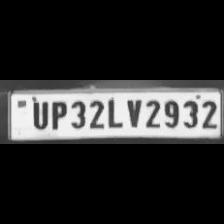2: (140, 97, 162, 129), (198, 98, 218, 130), (86, 96, 104, 130)
3: (68, 96, 86, 130), (180, 97, 198, 129)
9: (160, 96, 180, 128)
L: (104, 96, 122, 128)
P: (47, 98, 66, 130)
U: (28, 98, 48, 130)
V: (122, 96, 142, 128)
